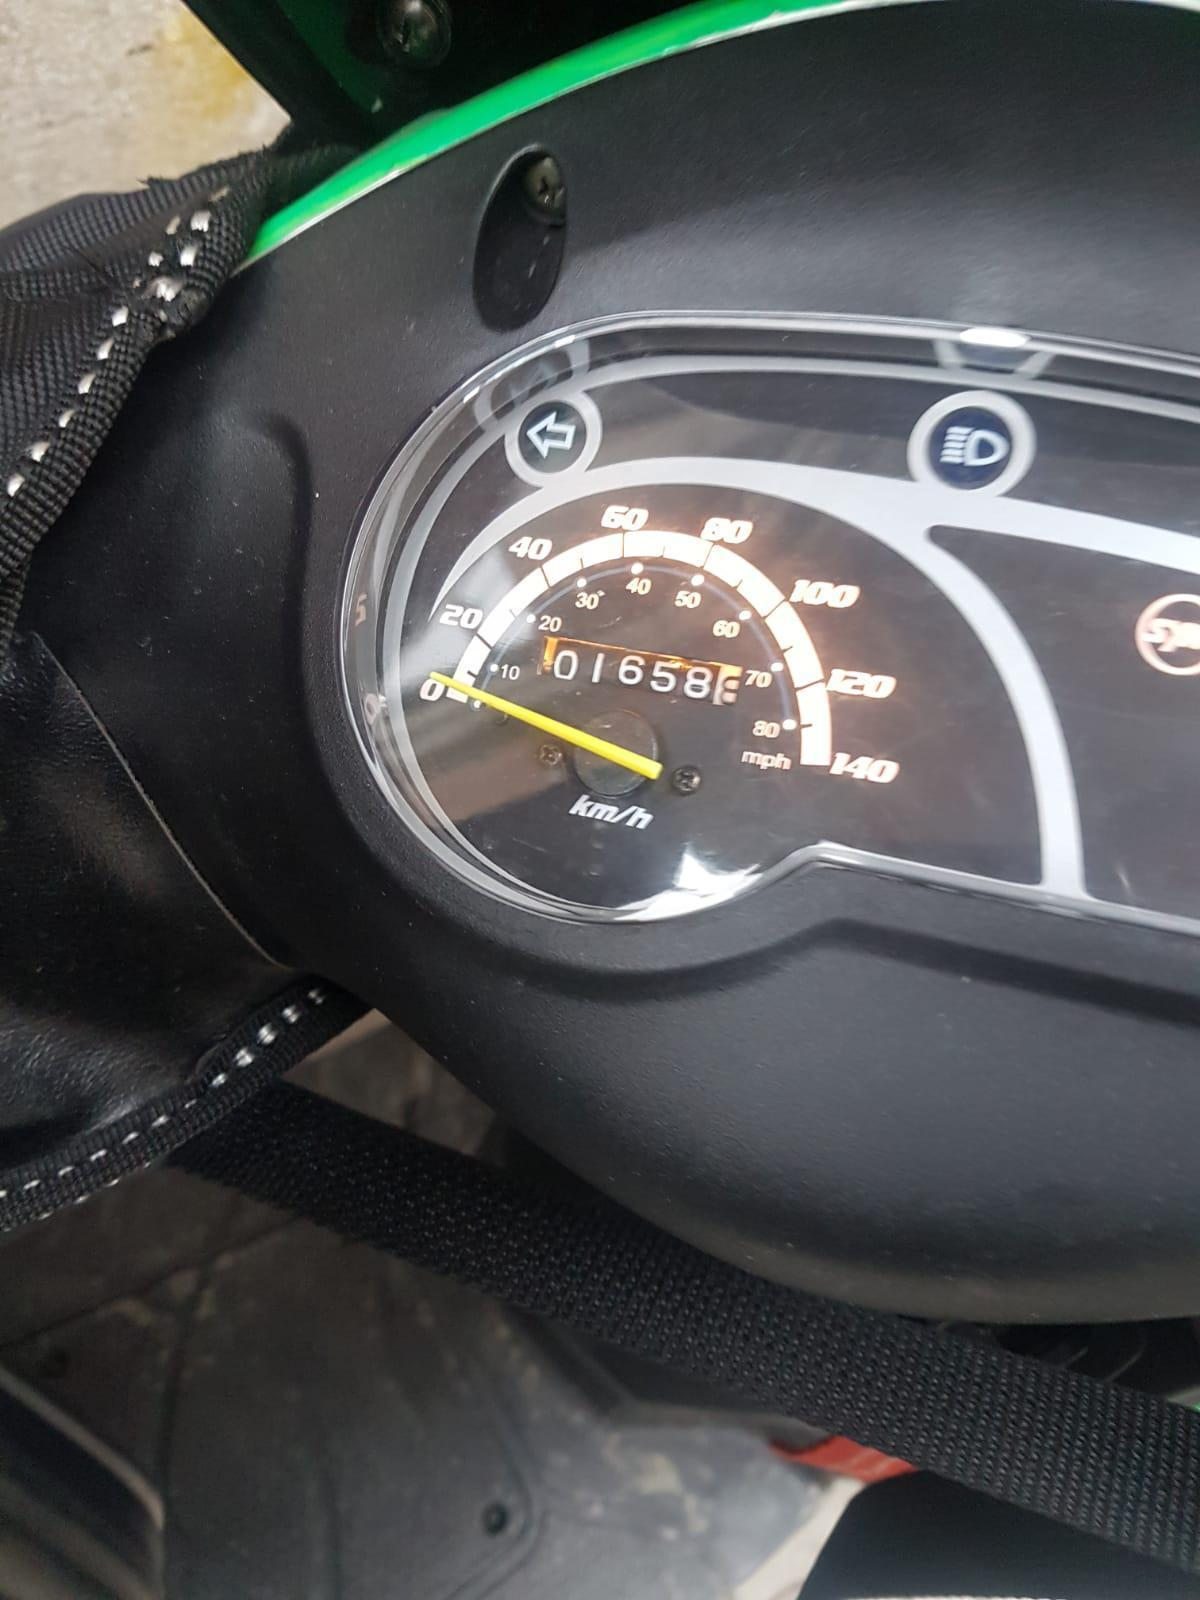0: (552, 643, 580, 684)
1: (587, 645, 608, 692)
5: (650, 654, 679, 700)
6: (618, 648, 645, 689)
8: (683, 661, 713, 706), (718, 673, 741, 709)
odometer: (534, 635, 747, 716)
